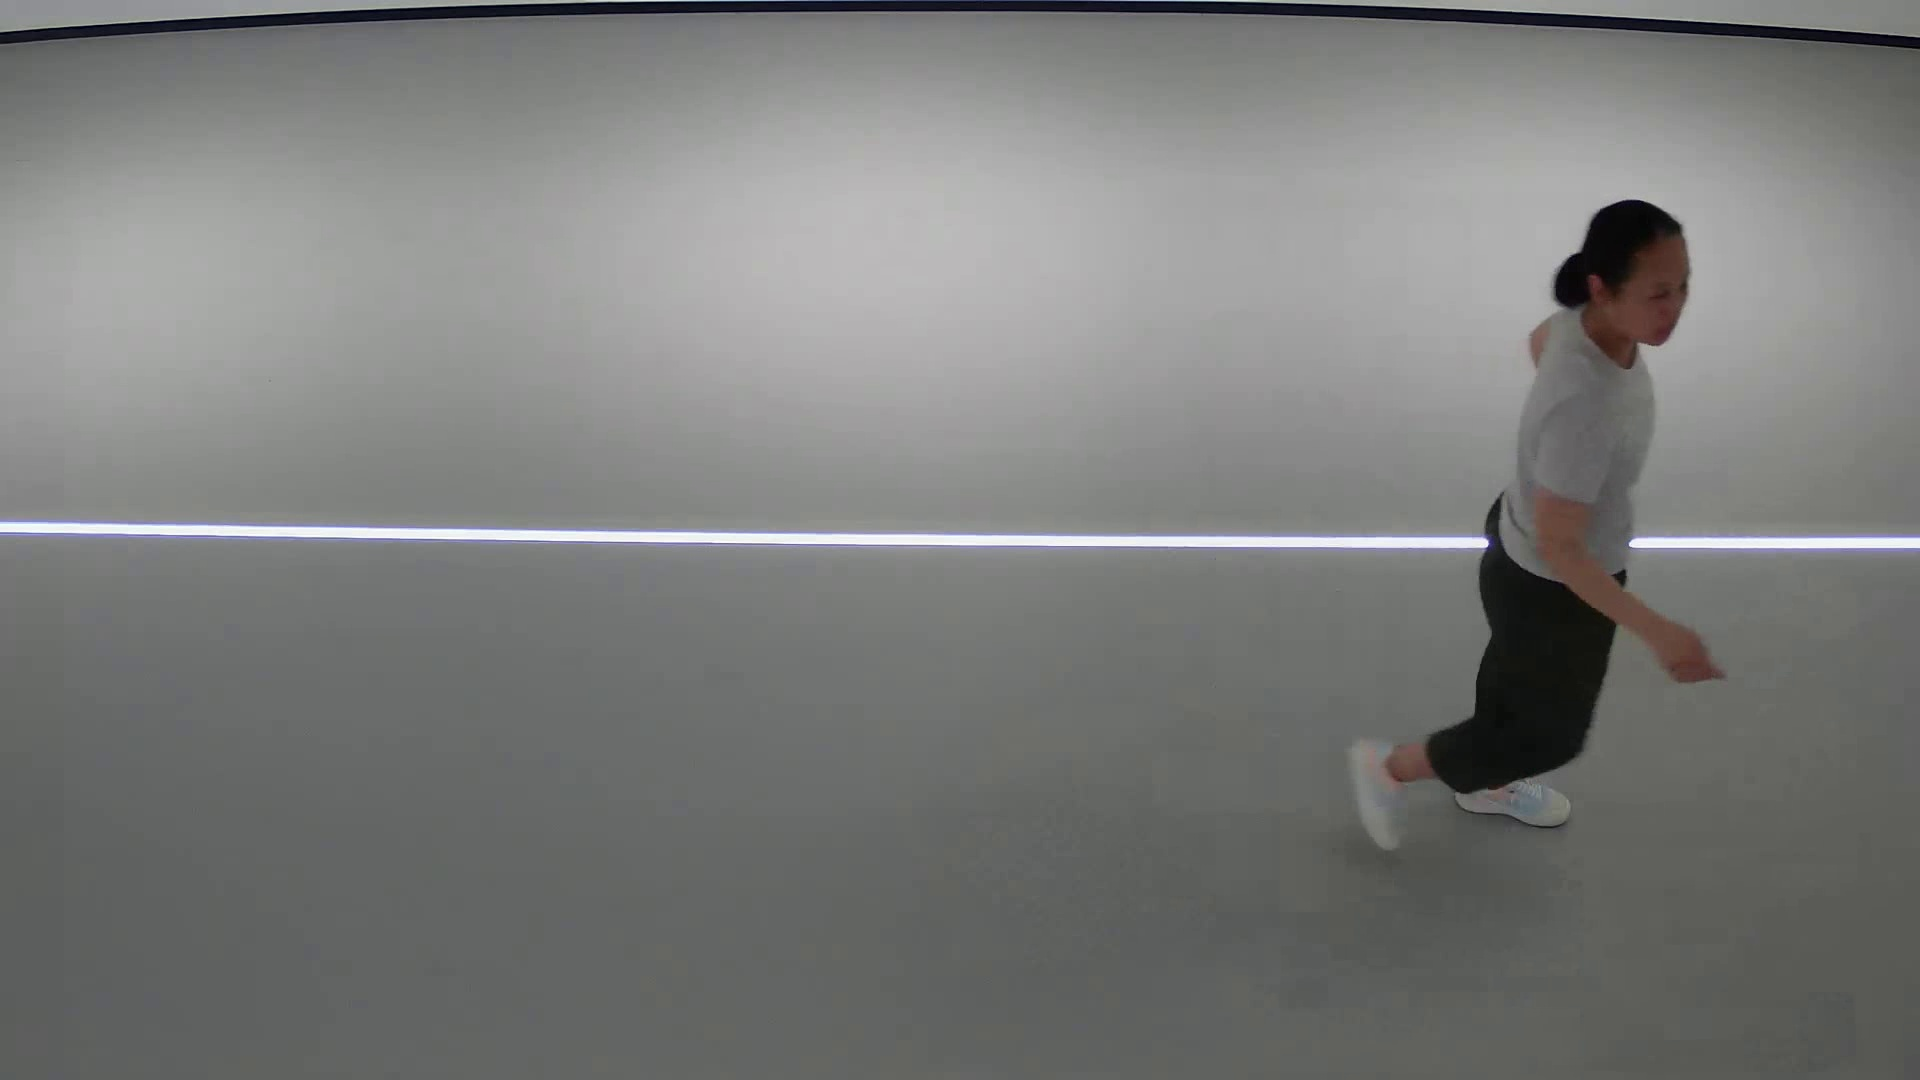normal: (1335, 183, 1742, 866)
